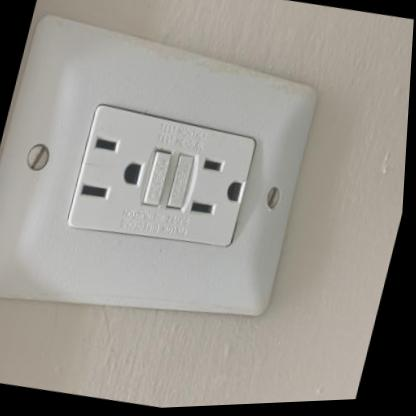OUTLET: (0, 20, 326, 347)
